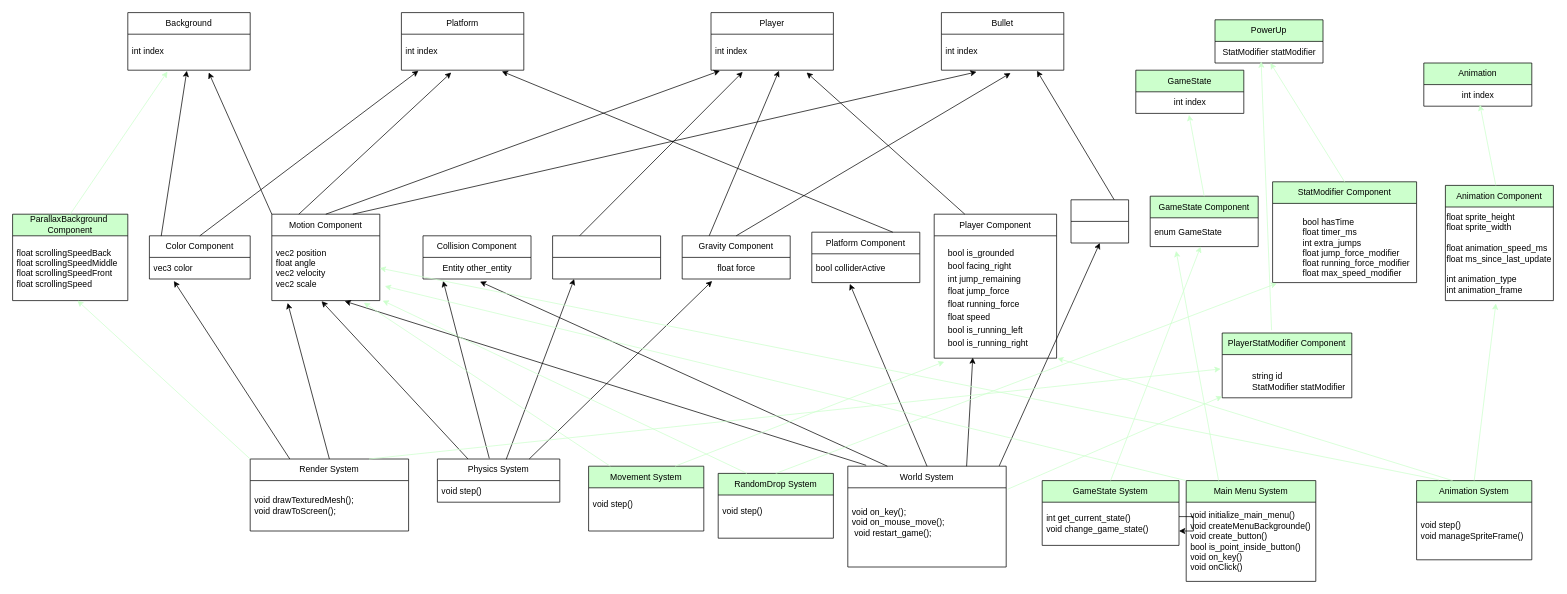
Some shapes in this 1567 by 594 pixel diagram are drawn without their labels. The centre of each missing label's shape, as x and y in pixels:
"Bullet Component" goes at (1099,221).
"Friction Component" goes at (606,257).
